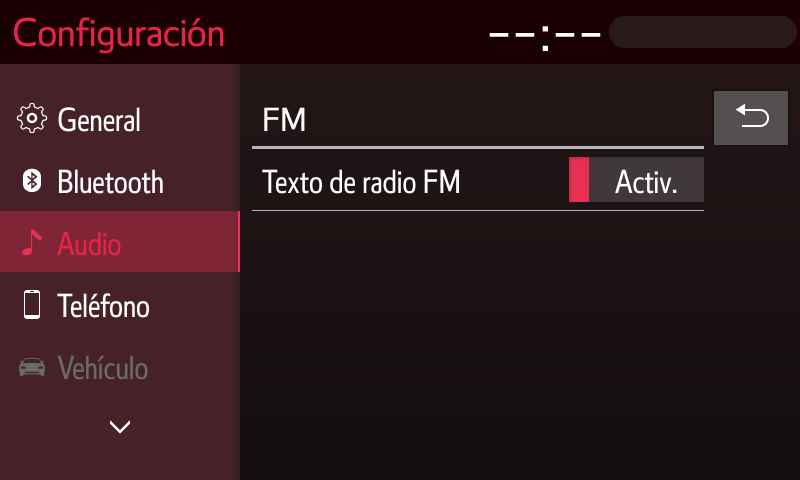touchPart: (249, 139, 709, 212), (5, 155, 170, 201), (11, 97, 161, 138), (708, 84, 792, 152), (18, 286, 155, 326), (104, 414, 138, 438)
untouchPart: (3, 206, 241, 274), (488, 11, 795, 50), (12, 8, 228, 54), (11, 346, 167, 389)
